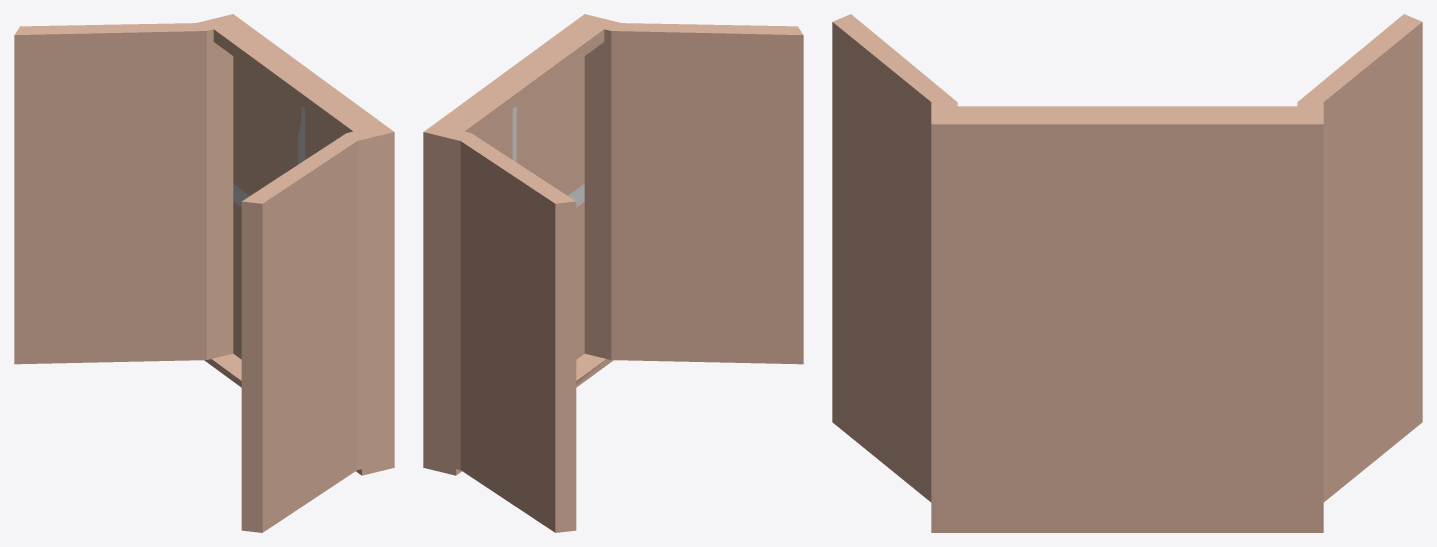
The model's file is John_Window.fbx.
3 renders of one model, left to right at view 1: azimuth 30°, elevation 25°; view 2: azimuth 150°, elevation 25°; view 3: azimuth 270°, elevation 25°, orthographic. The views are drawn at different scales.
Visible parts, largest first — view 1: Cube; view 2: Cube; view 3: Cube.
Boxes of the visible parts, x1,y1,x2,y2 form: Cube: (14,14,394,532); Cube: (423,14,803,532); Cube: (832,14,1422,532).
Bounding box in the file's own units: 1229 × 2122 × 2778.
